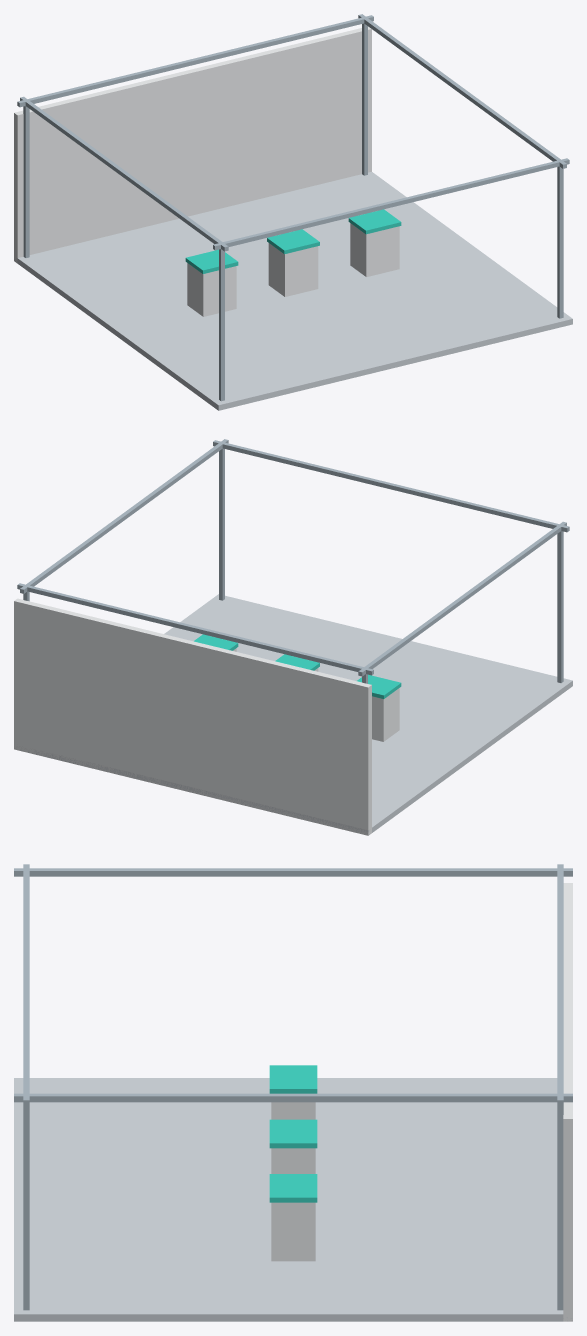
The picture shows the model from 3 angles, top to bottom: view 1: azimuth 30°, elevation 25°; view 2: azimuth 150°, elevation 25°; view 3: azimuth 270°, elevation 25°; orthographic projection. The views are drawn at different scales.
Visible parts, largest first — view 1: Exhibition Booth Concept; view 2: Exhibition Booth Concept; view 3: Exhibition Booth Concept.
Boxes of the visible parts, x1,y1,x2,y2 form: Exhibition Booth Concept: (14, 14, 572, 410); Exhibition Booth Concept: (14, 439, 572, 835); Exhibition Booth Concept: (14, 864, 572, 1321).
Bounding box in the file's own units: 8 × 3.49 × 8.
